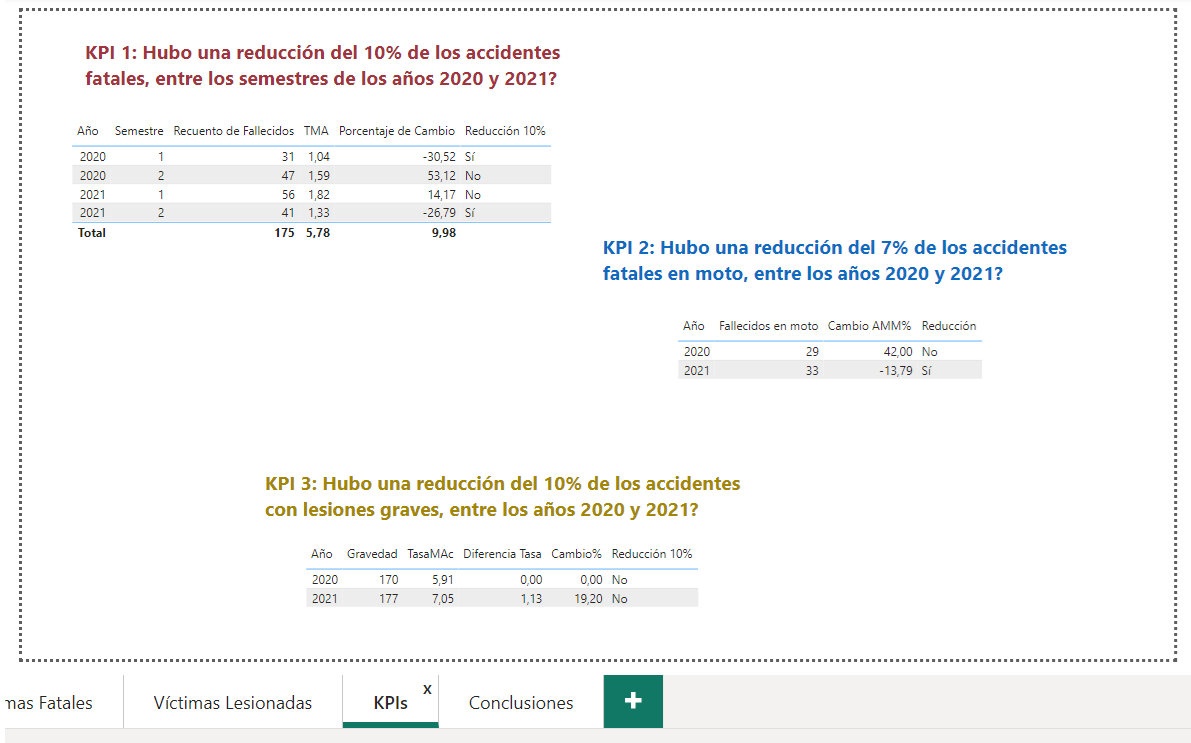

The dashboard page shown, as its layout file describes it:
{"tool":"powerbi","page":{"name":"KPIs","canvas":[1280,720],"ordinal":2},"visuals":[{"type":"tableEx","fields":{"Values":["KPI1.Agno","KPI1.Semestre","Sum(KPI1.Fallecido)","Sum(KPI1.TMA)","Sum(KPI1.Cambio%)","KPI1.Reducción"]},"box":[50,116.7,576.7,171.7],"z":0},{"type":"textbox","box":[65,25,546.7,91.7],"z":1000},{"type":"textbox","box":[640,241.7,563.3,91.7],"z":2000},{"type":"tableEx","fields":{"Values":["KPI_moto.Agno_fallec","KPI_moto.Fallecido","KPI_moto.AMM","KPI_moto.Reducción"]},"box":[723.3,333.3,371.7,105],"z":3000},{"type":"textbox","box":[265,503.3,546.7,83.3],"z":4000},{"type":"tableEx","fields":{"Values":["KPI_3.AAA","KPI_3.GRAVEDAD","KPI_3.TasaMAc","KPI_3.DiferecTasa","KPI_3.Cambio%","KPI_3.Reducción 10%"]},"box":[310,586.7,458.3,105],"z":5000}]}

Visuals, with their boxes on the page's 1280x720 design canvas (x1, y1, x2, y2). These are canvas units, not pixel positions in the 1191x743 screenshot, which may show the page scaled, cropped or inside an application window:
tableEx - KPI1.Agno x KPI1.Semestre: Rect(50, 117, 627, 288)
textbox: Rect(65, 25, 612, 117)
textbox: Rect(640, 242, 1203, 333)
tableEx - KPI_moto.Agno_fallec x KPI_moto.Fallecido: Rect(723, 333, 1095, 438)
textbox: Rect(265, 503, 812, 587)
tableEx - KPI_3.AAA x KPI_3.GRAVEDAD: Rect(310, 587, 768, 692)
